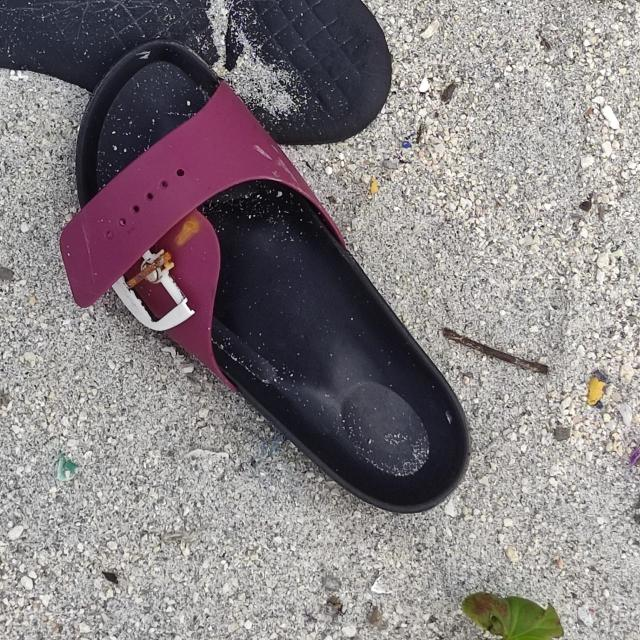rubber_waste: (69, 44, 475, 520), (232, 1, 390, 143)
